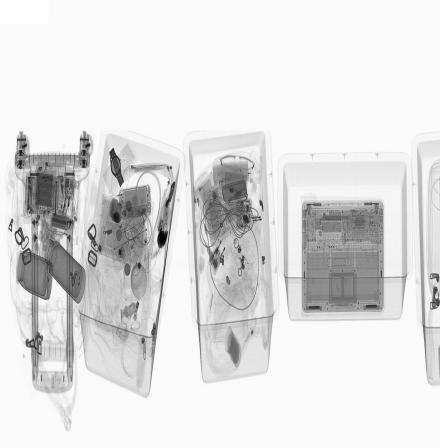Lighter: (61, 184, 76, 194)
